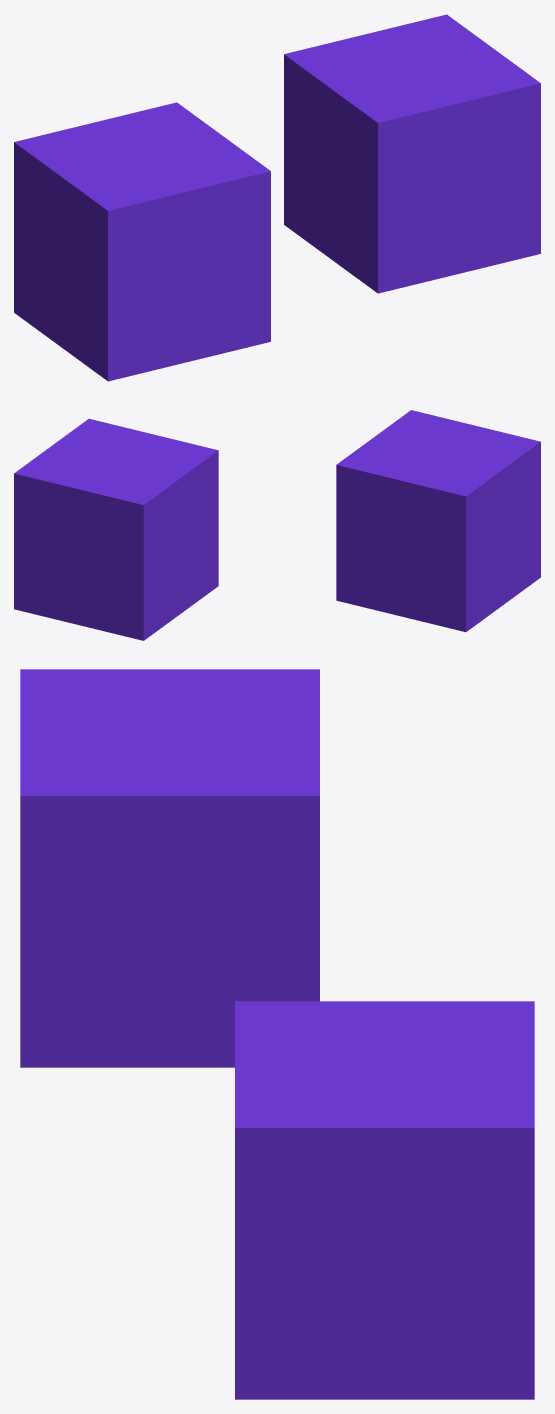
The picture shows the model from 3 angles, top to bottom: view 1: azimuth 30°, elevation 25°; view 2: azimuth 150°, elevation 25°; view 3: azimuth 270°, elevation 25°; orthographic projection. The views are drawn at different scales.
Visible parts, largest first — view 1: Cube, Cube.001; view 2: Cube, Cube.001; view 3: Cube.001, Cube.
Part boxes in pixels (left/top/right/bottom): Cube: left=14, top=102, right=270, bottom=381; Cube.001: left=284, top=14, right=540, bottom=293; Cube: left=336, top=410, right=540, bottom=632; Cube.001: left=14, top=418, right=218, bottom=640; Cube.001: left=235, top=1001, right=534, bottom=1399; Cube: left=20, top=669, right=319, bottom=1067.
Bounding box in the file's own units: 6.14 × 2.51 × 3.43.
